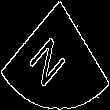N_NE: (32, 23, 78, 87)
